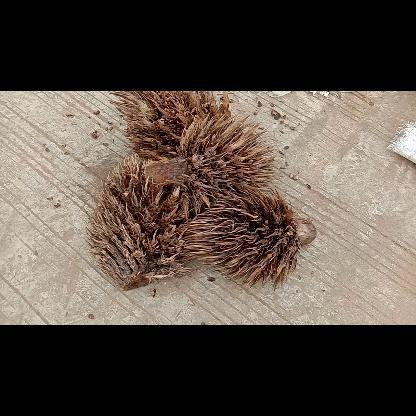Janjang kosong: (85, 152, 201, 290), (178, 187, 316, 288), (143, 112, 275, 214), (108, 90, 230, 160)
